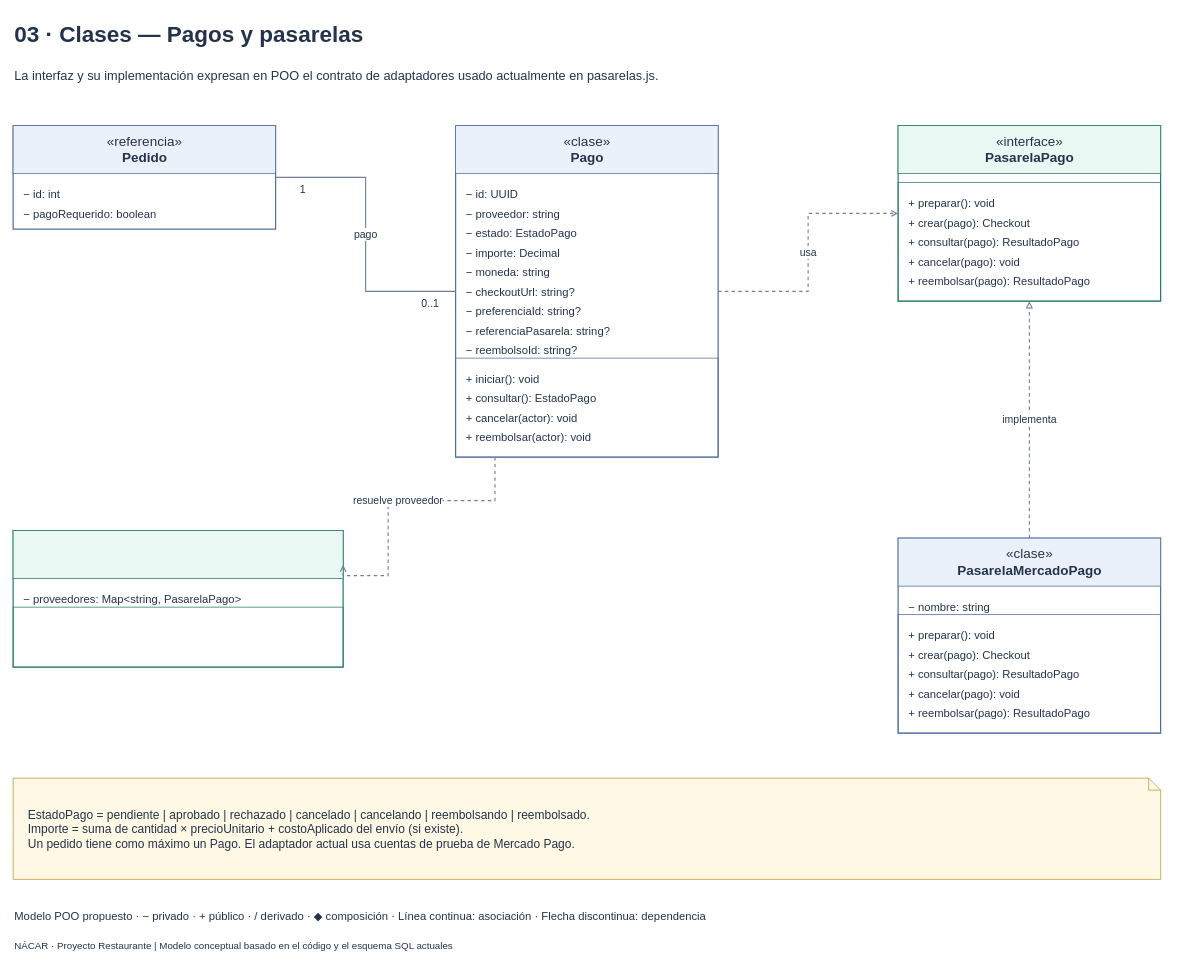
Some shapes in this 1196 by 967 pixel diagram are drawn without their labels. Each missing label, with the centre of its shape:
"+ registrar(codigo, pasarela): void + obtener(codigo): PasarelaPago" goes at pixel 177 636.
"«servicio» RegistroPasarelas" goes at pixel 177 554.
